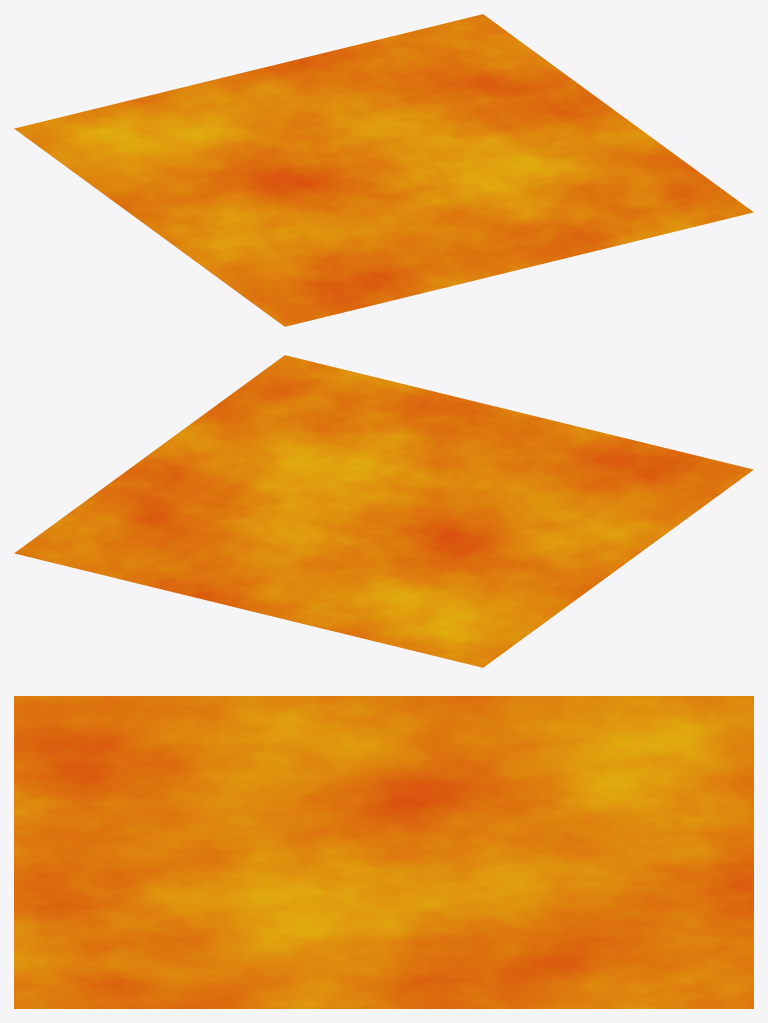
File: betobeto.obj
The picture shows the model from 3 angles, top to bottom: view 1: azimuth 30°, elevation 25°; view 2: azimuth 150°, elevation 25°; view 3: azimuth 270°, elevation 25°; orthographic projection. The views are drawn at different scales.
Visible parts, largest first — view 1: Plane; view 2: Plane; view 3: Plane.
Part boxes in pixels (box(x1,y1,x2,y2)): Plane: box(14, 14, 753, 326); Plane: box(14, 355, 753, 667); Plane: box(14, 696, 753, 1008).
Bounding box in the file's own units: 12 × 0 × 12.
Materials: 1 (1 with a texture image).
